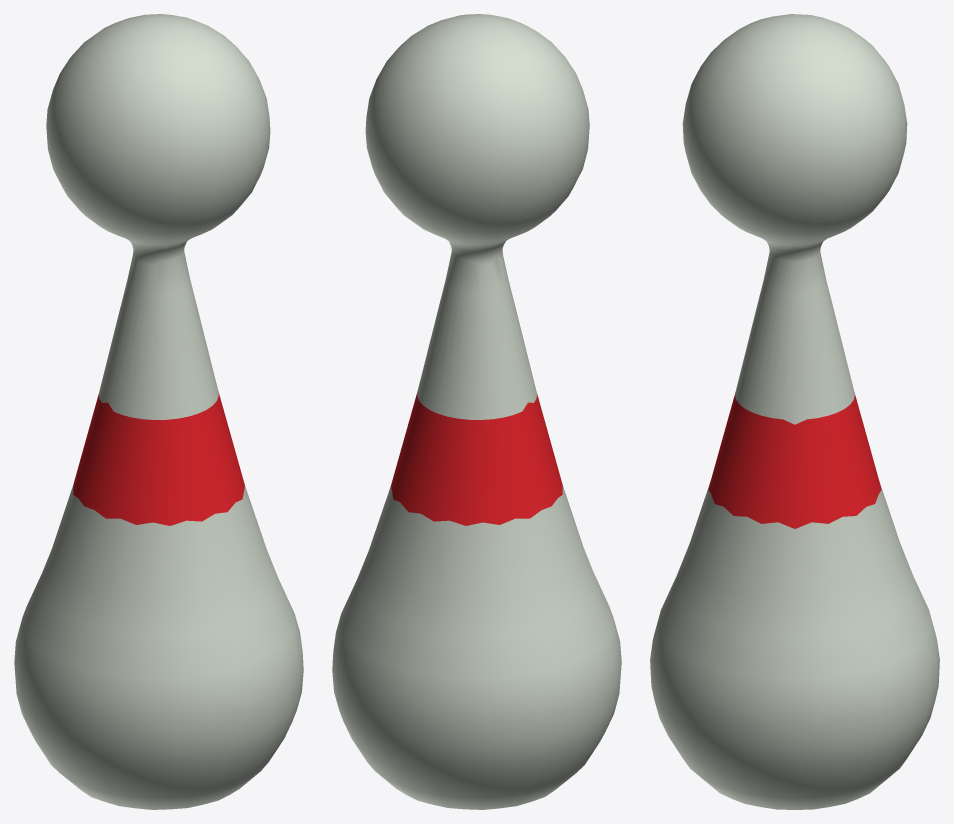
Rendered from Ball2.glb.
3 renders of one model, left to right at view 1: azimuth 30°, elevation 25°; view 2: azimuth 150°, elevation 25°; view 3: azimuth 270°, elevation 25°, orthographic.
Visible parts, largest first — view 1: Sphere; view 2: Sphere; view 3: Sphere.
Part boxes in pixels (<box>): Sphere: <box>14,14,303,809</box>; Sphere: <box>332,14,621,809</box>; Sphere: <box>650,14,939,809</box>.
Bounding box in the file's own units: 1.94 × 5.59 × 1.94.
